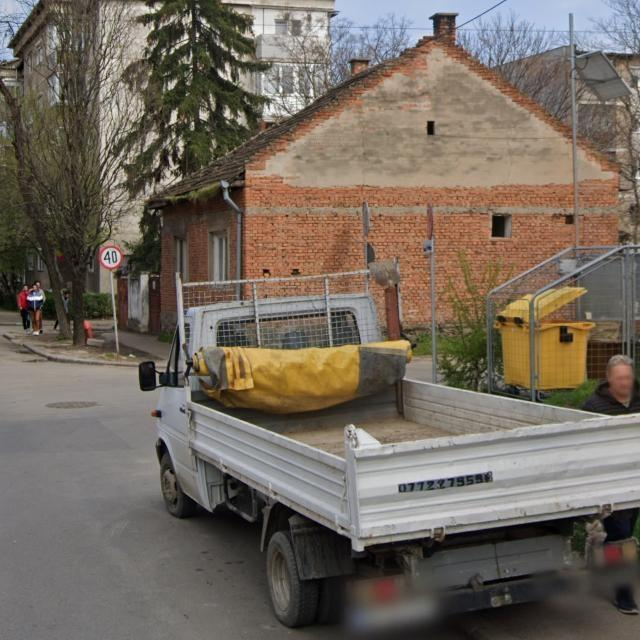forb_speed_over_40: (99, 245, 123, 270)
